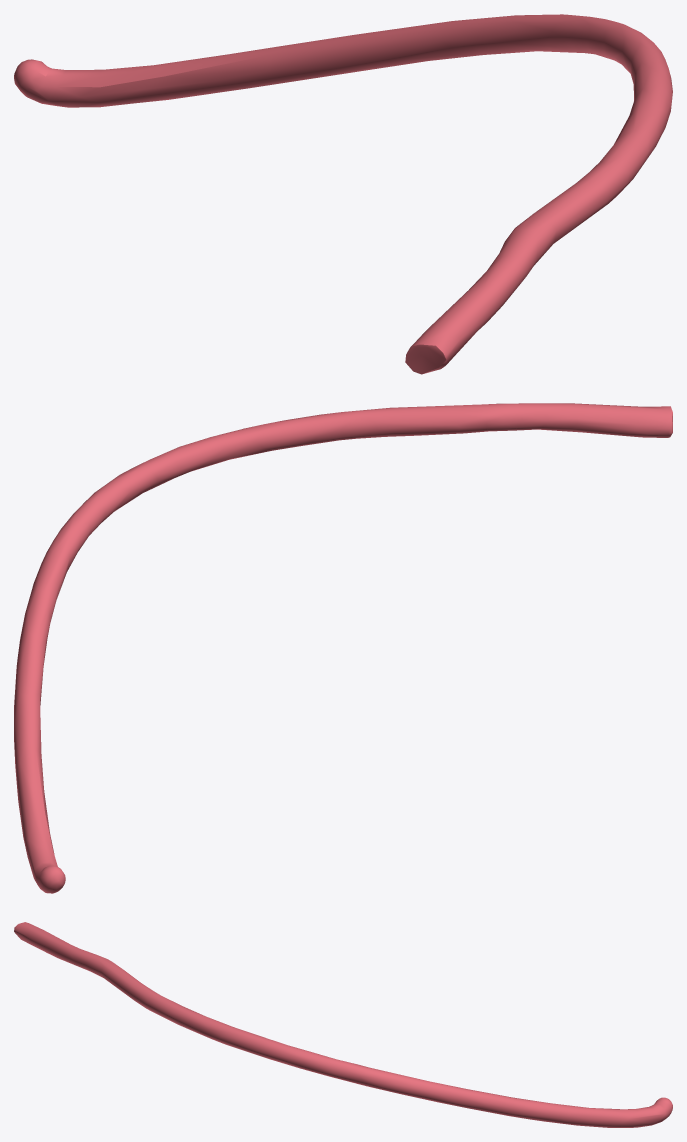
Rendered from fma77950_fj2222.glb.
3 renders of one model, top to bottom at view 1: azimuth 30°, elevation 25°; view 2: azimuth 150°, elevation 25°; view 3: azimuth 270°, elevation 25°, orthographic. The views are drawn at different scales.
Visible parts, largest first — view 1: FMA77950_FJ2222; view 2: FMA77950_FJ2222; view 3: FMA77950_FJ2222.
Boxes of the visible parts, box(x1,y1,x2,y2) form: FMA77950_FJ2222: box(14, 14, 672, 374); FMA77950_FJ2222: box(14, 403, 672, 893); FMA77950_FJ2222: box(14, 922, 672, 1127).
Bounding box in the file's own units: 0.024 × 0.0126 × 0.0509.
